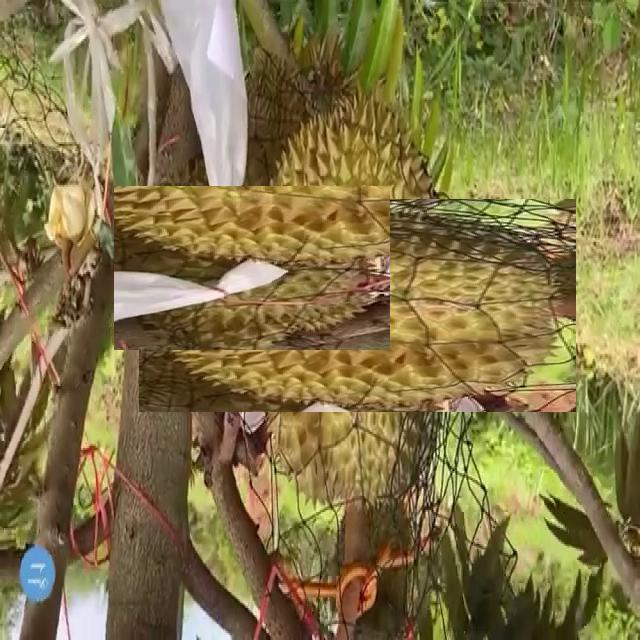durian: (194, 143, 520, 468), (141, 158, 362, 378)
